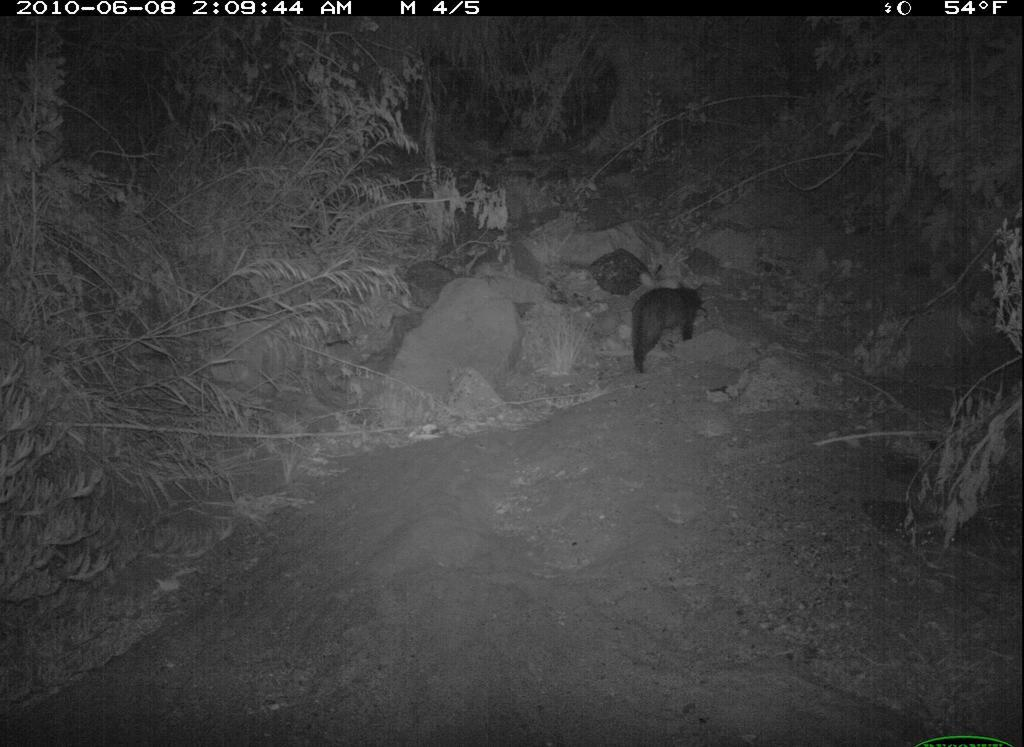cat: (606, 269, 730, 379)
